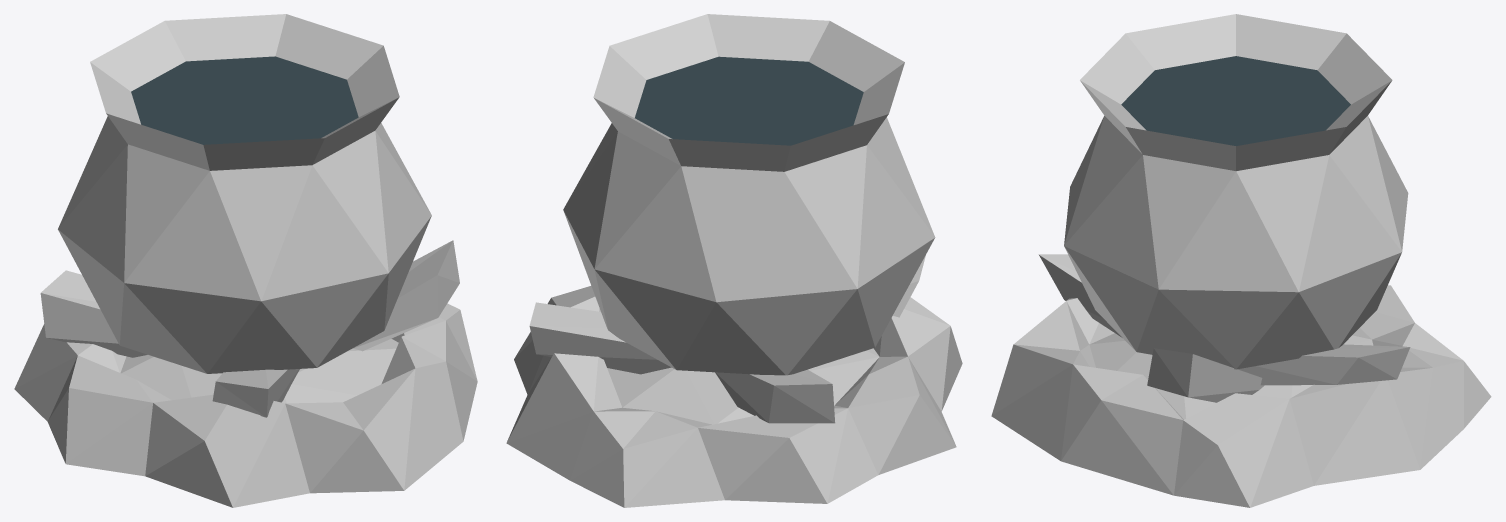
File: CAULDRON_OC.OBJ
3 views of the same model, side by side, from view 1: azimuth 30°, elevation 25°; view 2: azimuth 150°, elevation 25°; view 3: azimuth 270°, elevation 25° (orthographic). The views are drawn at different scales.
Visible parts, largest first — view 1: CAULDRON_OC; view 2: CAULDRON_OC; view 3: CAULDRON_OC.
Part boxes in pixels (x1=…): CAULDRON_OC: x1=14, y1=14, x2=477, y2=507; CAULDRON_OC: x1=506, y1=14, x2=962, y2=507; CAULDRON_OC: x1=991, y1=14, x2=1491, y2=507.
Size of the model in its own units: 1.17 by 0.8767 by 1.24.
